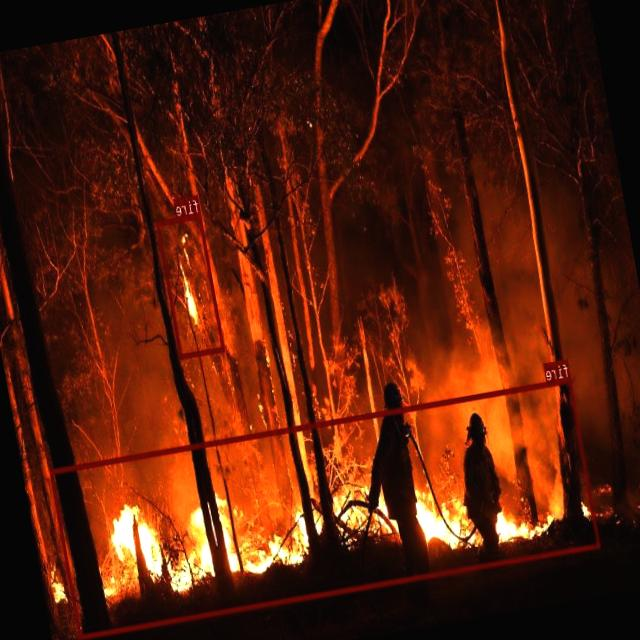fire: (49, 376, 600, 638), (157, 212, 226, 358)
